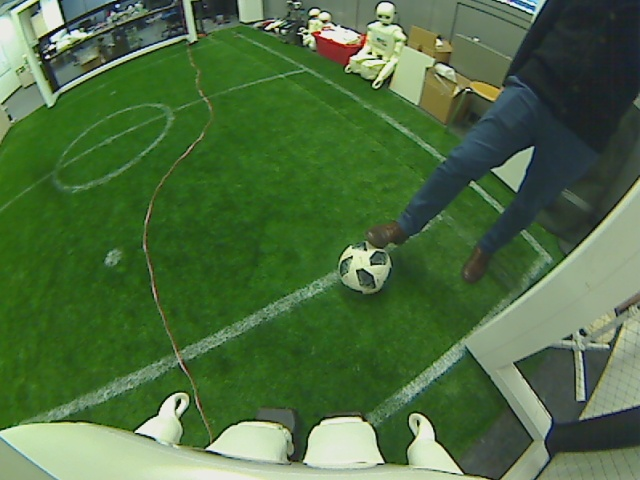ball: (336, 241, 394, 293)
